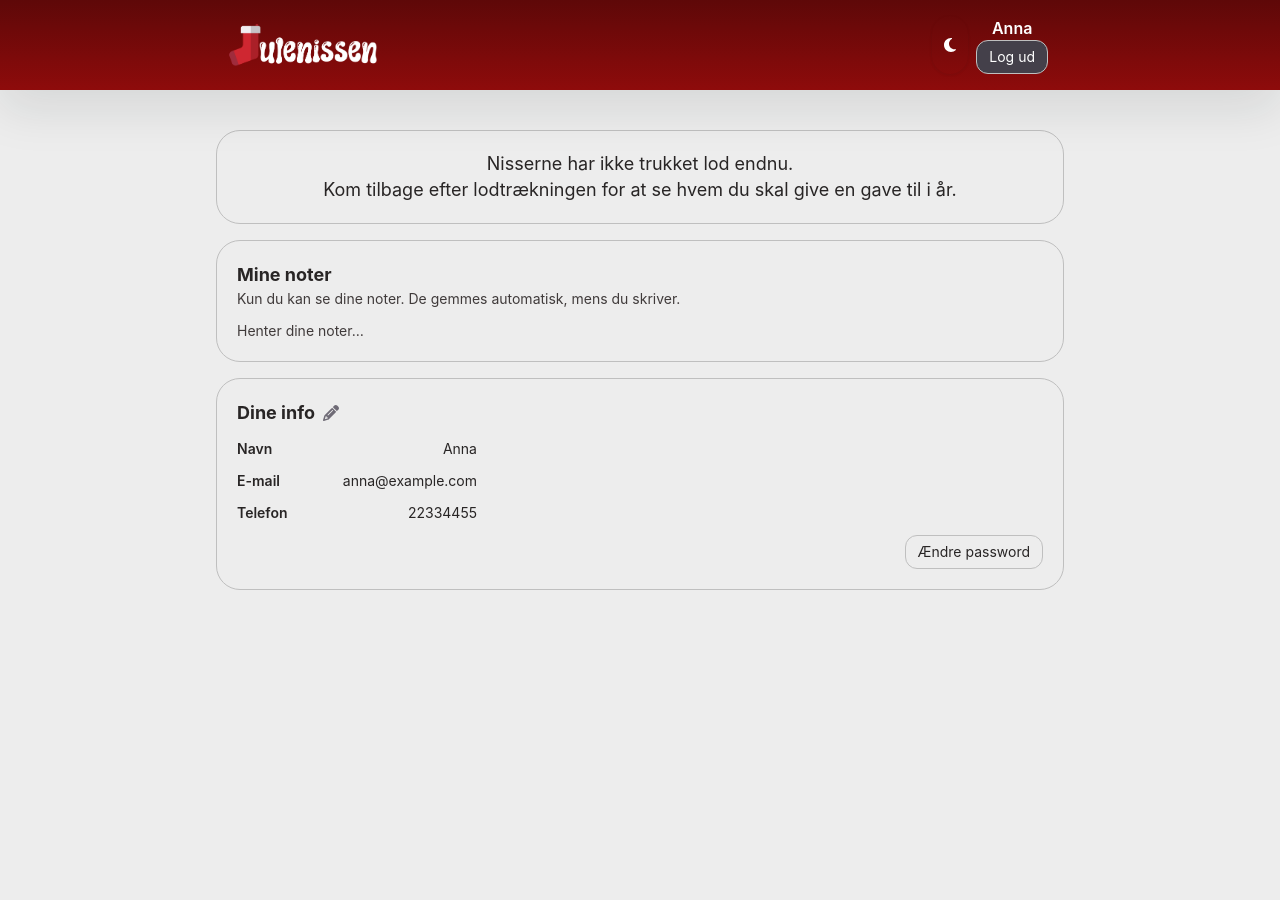
Test case: seeing and editing your own details › explains a taken email and keeps the dialog open
Click the button named "Rediger din info": (331, 413) [323,405,339,421]
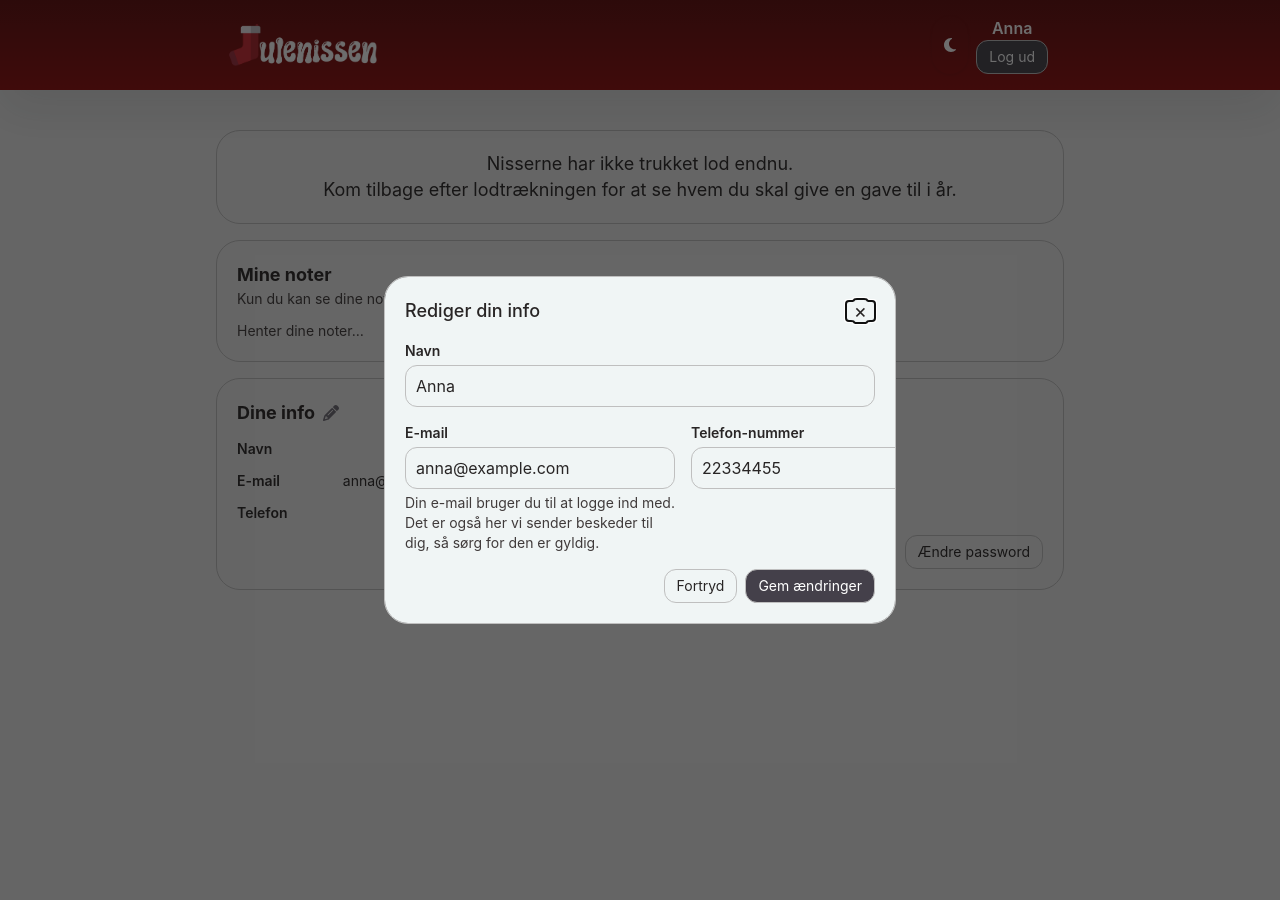
Clear the field labelled "E-mail": (540, 468) [405,447,675,489]
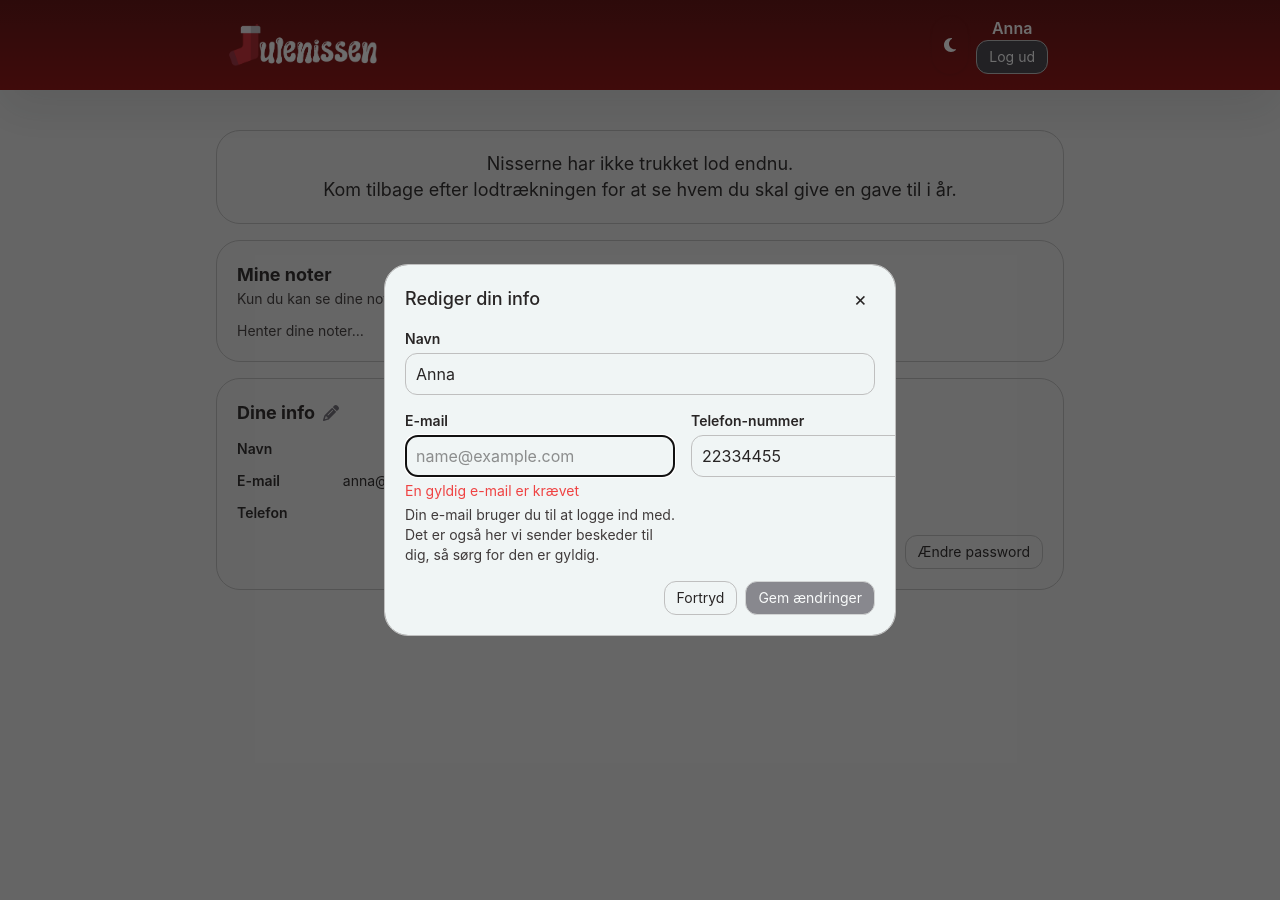
In the field labelled "E-mail": (540, 456) [405,435,675,477], type "taken@example.com"
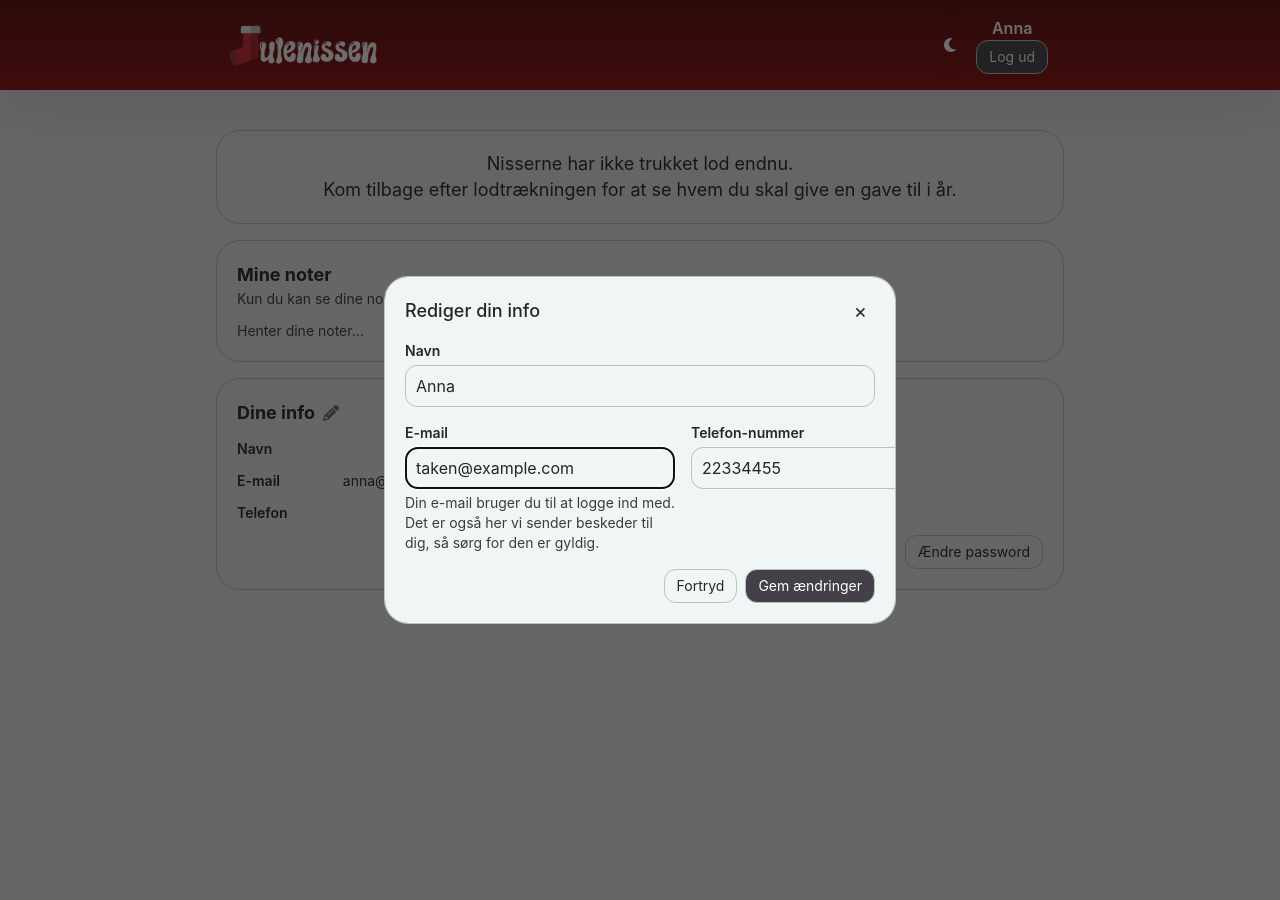
Click the button "Gem ændringer": (810, 586) [745,569,875,603]
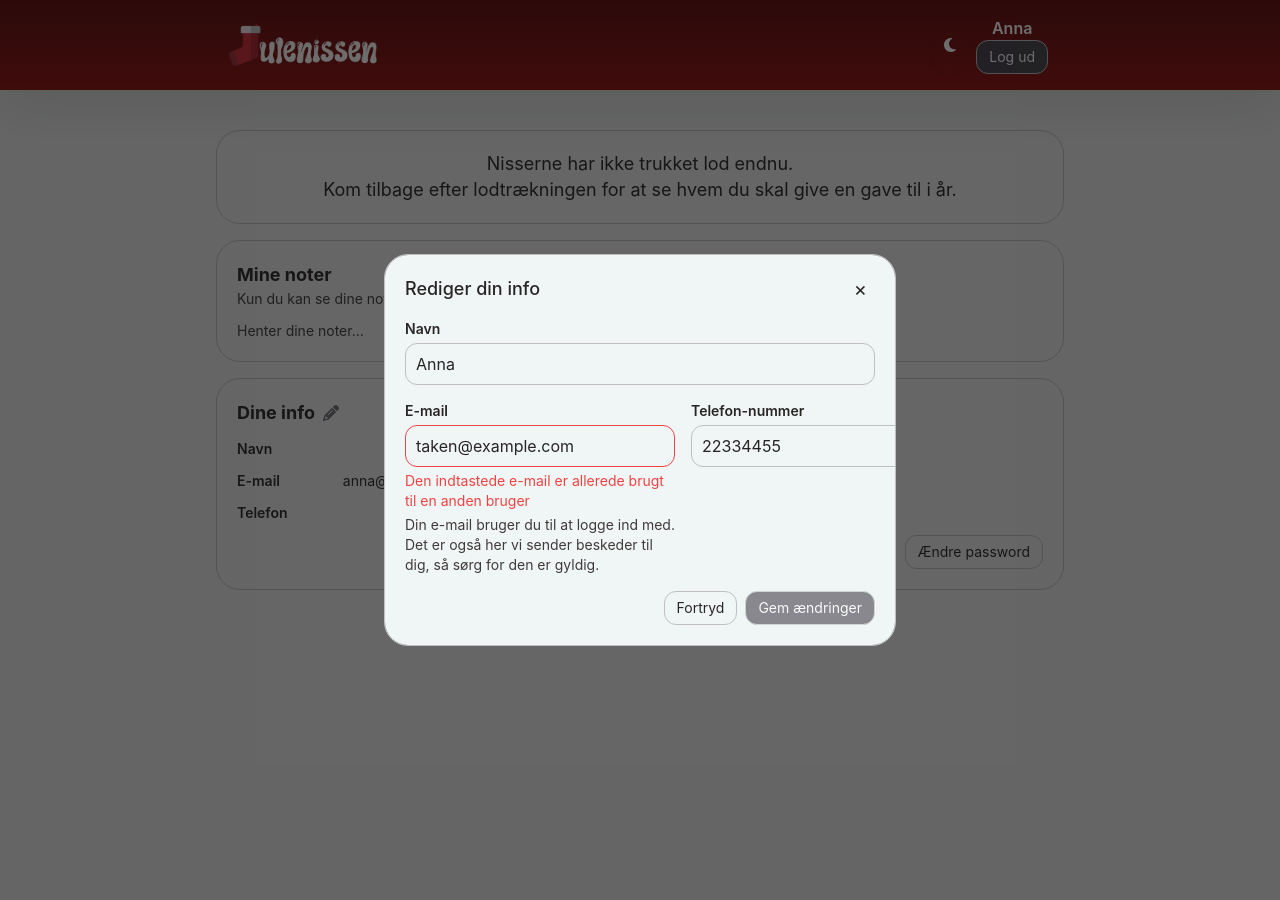
Result: the dialog is shown at [384,254,896,646]
Result: the text "Den indtastede e-mail er allerede brugt til en anden bruger" is shown at [405,471,675,511]
